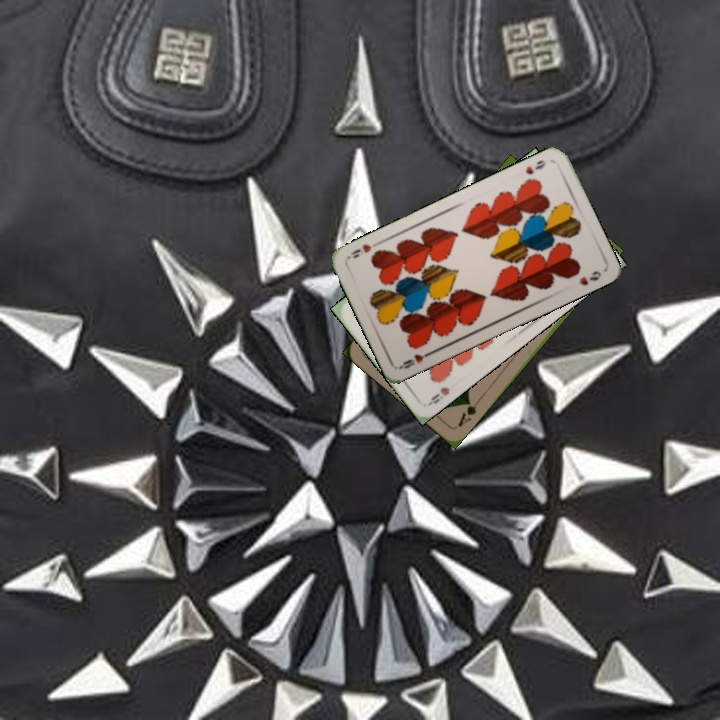GA: (454, 395, 483, 429)
H9: (396, 347, 435, 371), (425, 383, 452, 407), (521, 156, 548, 177)
